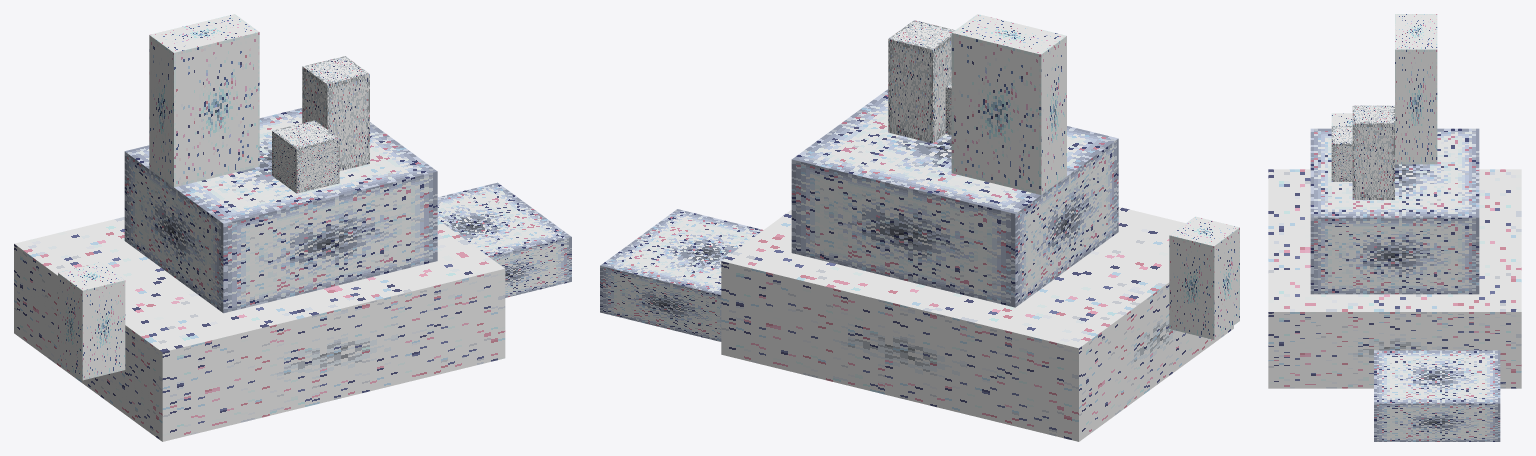
File: materials_quartz_dust.glb
3 views of the same model, side by side, from view 1: azimuth 30°, elevation 25°; view 2: azimuth 150°, elevation 25°; view 3: azimuth 270°, elevation 25° (orthographic). The views are drawn at different scales.
Parts seen in each view (by area): view 1: pile, rise, shard_a, lobe, side_crystal, shard_b, glint; view 2: pile, rise, shard_a, lobe, side_crystal, shard_b; view 3: pile, rise, lobe, shard_a, shard_b, glint, side_crystal.
Part boxes in pixels (bbox=[...]): pile: bbox=[14, 217, 505, 441]; rise: bbox=[124, 108, 437, 313]; shard_a: bbox=[149, 14, 259, 187]; lobe: bbox=[437, 182, 571, 297]; side_crystal: bbox=[58, 262, 125, 380]; shard_b: bbox=[302, 56, 369, 170]; glint: bbox=[272, 120, 339, 193]; pile: bbox=[721, 207, 1233, 441]; rise: bbox=[791, 89, 1118, 307]; shard_a: bbox=[951, 14, 1066, 194]; lobe: bbox=[600, 209, 763, 341]; side_crystal: bbox=[1169, 216, 1239, 339]; shard_b: bbox=[888, 20, 954, 143]; pile: bbox=[1268, 169, 1521, 388]; rise: bbox=[1310, 128, 1479, 294]; lobe: bbox=[1374, 350, 1500, 441]; shard_a: bbox=[1395, 14, 1437, 164]; shard_b: bbox=[1352, 105, 1394, 199]; glint: bbox=[1331, 126, 1352, 181]; side_crystal: bbox=[1331, 113, 1352, 125].
Size of the model in its own units: 0.375 by 0.2188 by 0.1875.
Materials: 4 (4 with a texture image).
